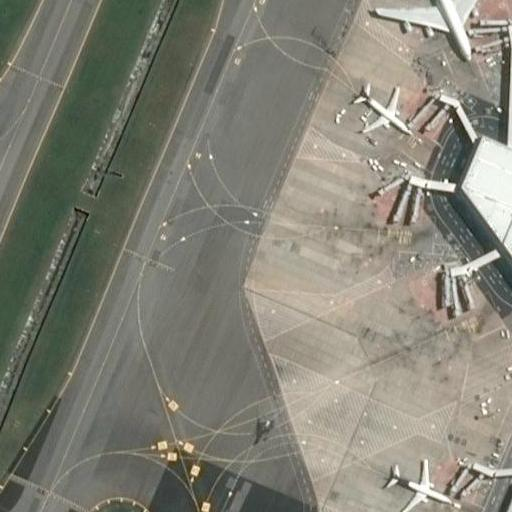Aircraft: (367, 0, 498, 61), (384, 456, 456, 512), (350, 82, 410, 138)
